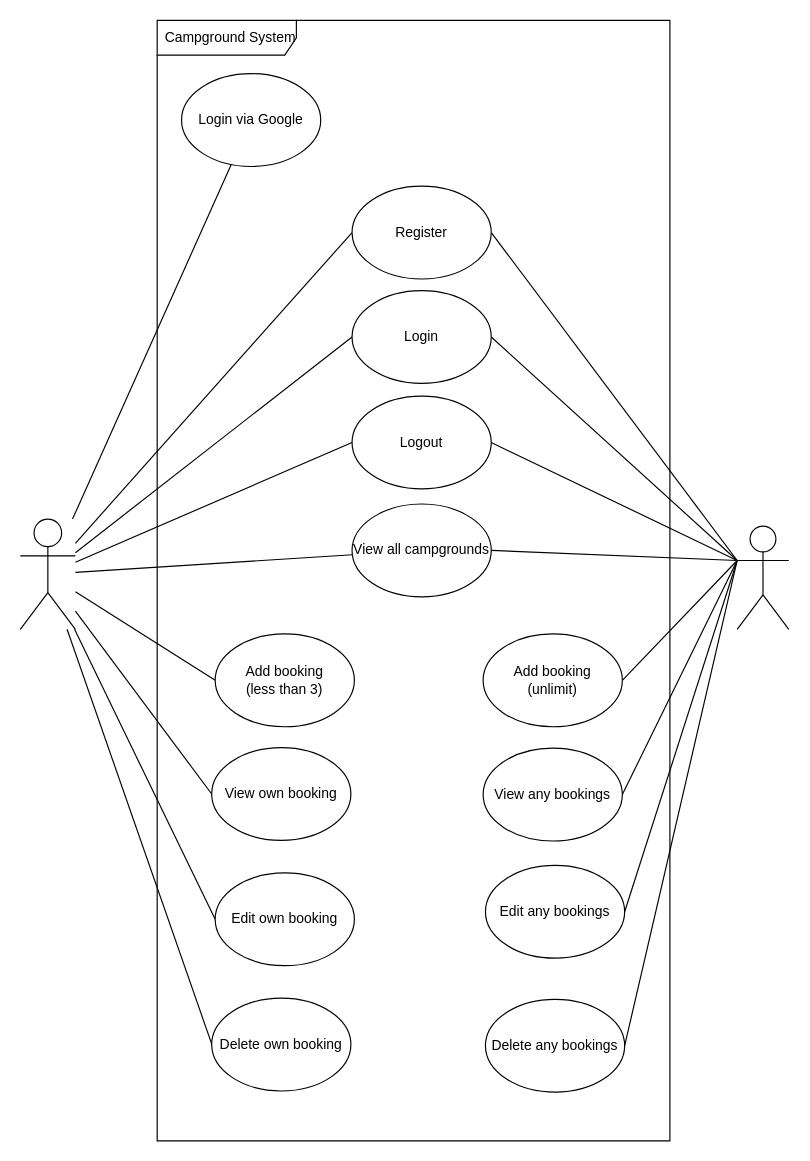
The diagram is 810 pixels wide and 1161 high, and some of its shapes have lost their labels. Each missing label, with the centre of its shape:
"Admin" belongs at point (762, 577).
"User" belongs at point (47, 573).
